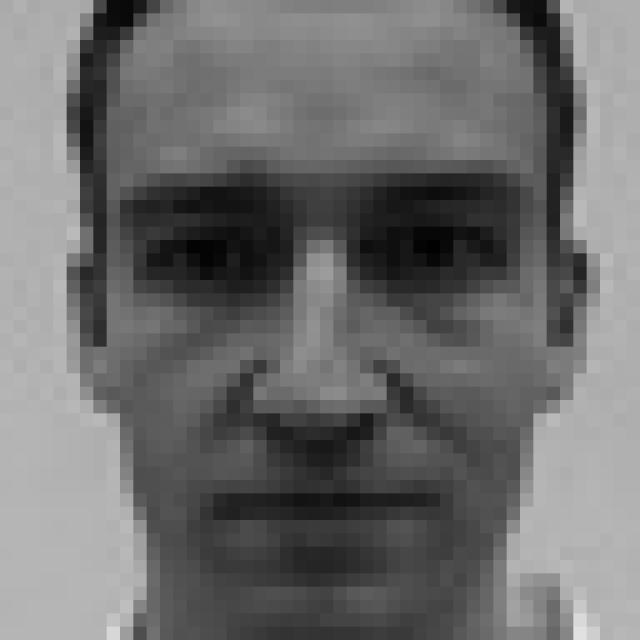neutral: (119, 154, 538, 574)
